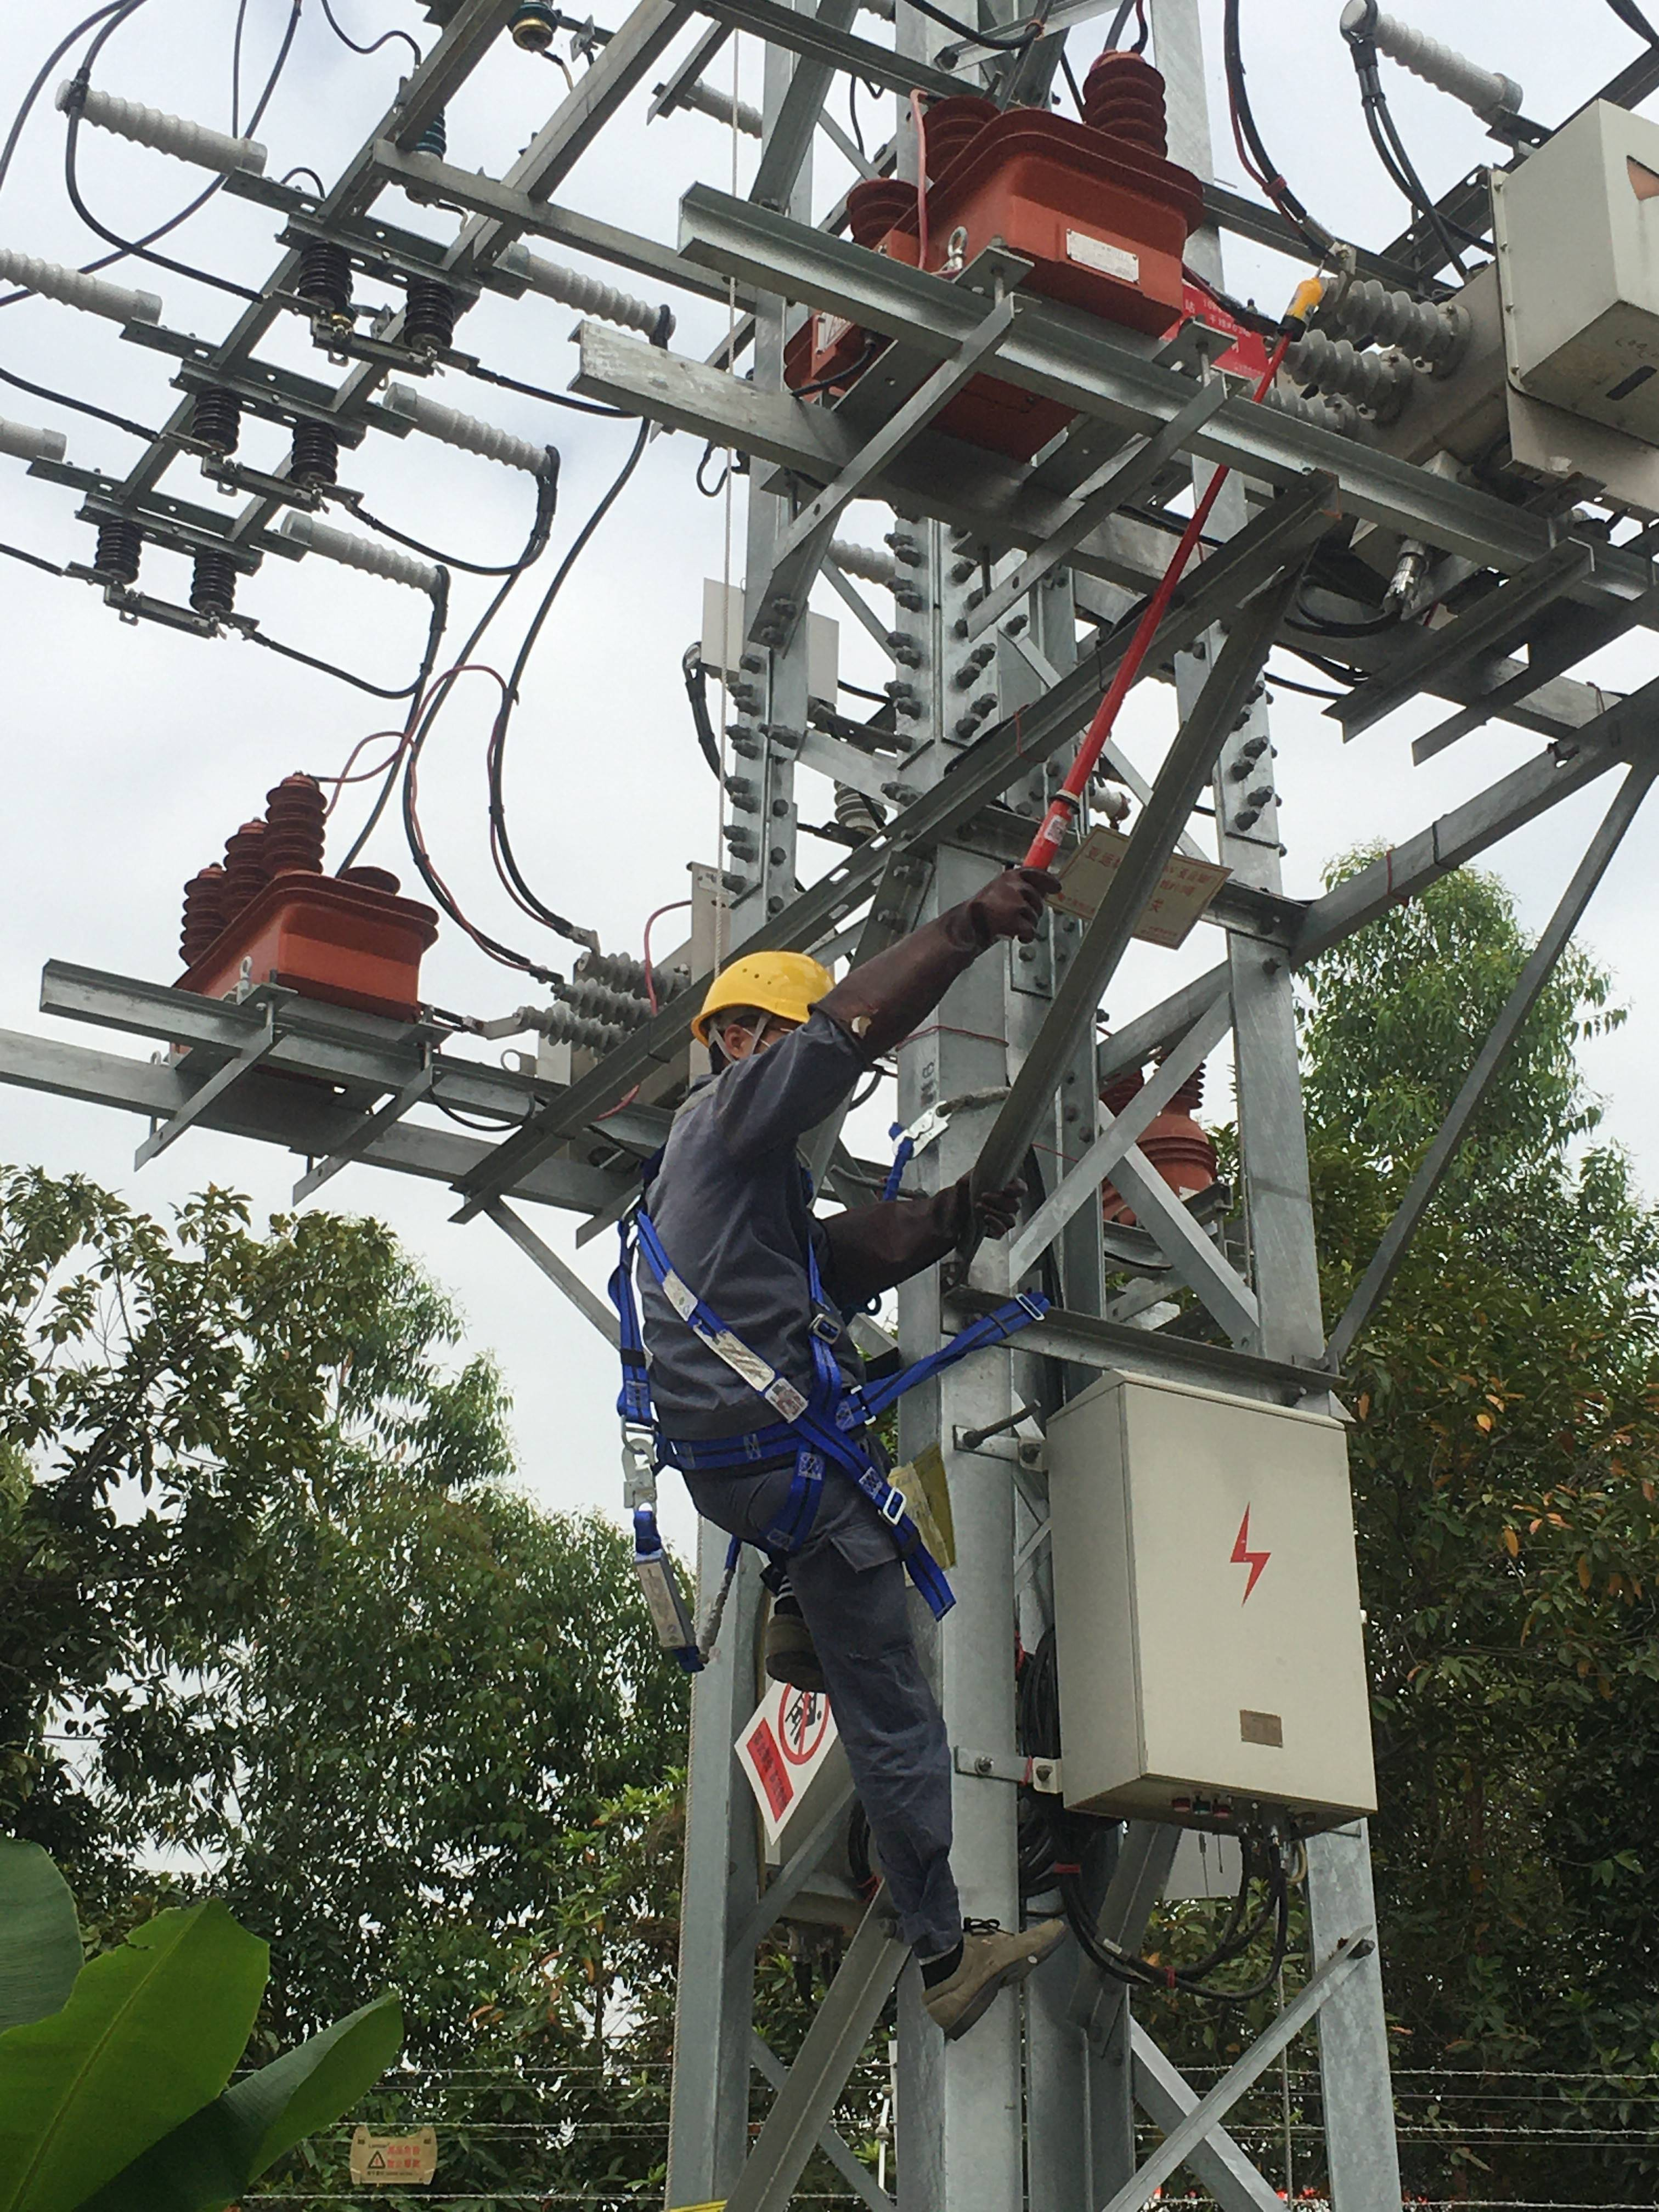downsuit: (673, 1446, 979, 1956)
upsuit: (640, 1036, 896, 1428)
